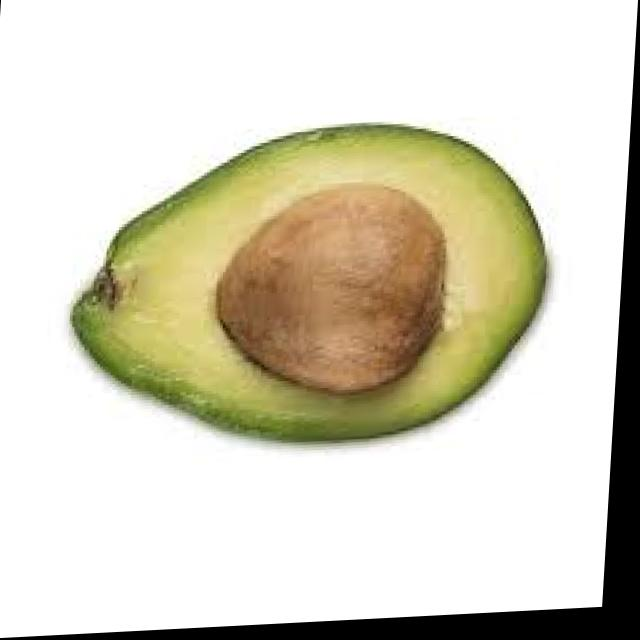Bo: (59, 97, 567, 455)
